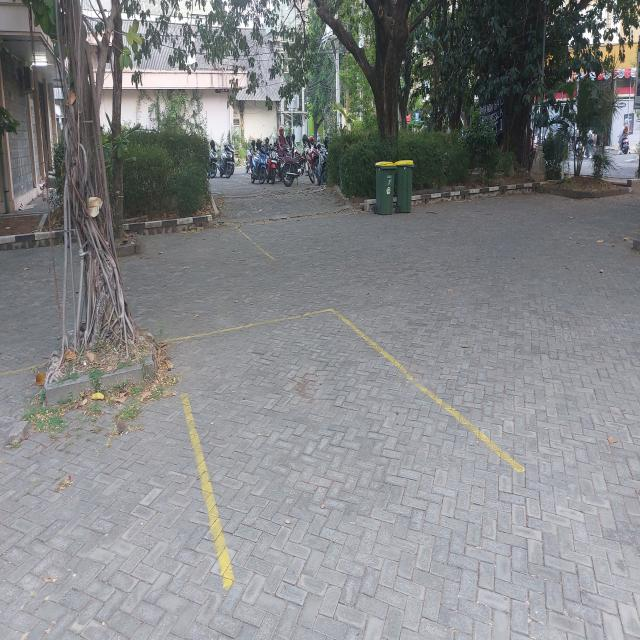empty: (168, 309, 526, 585), (139, 225, 273, 286)
